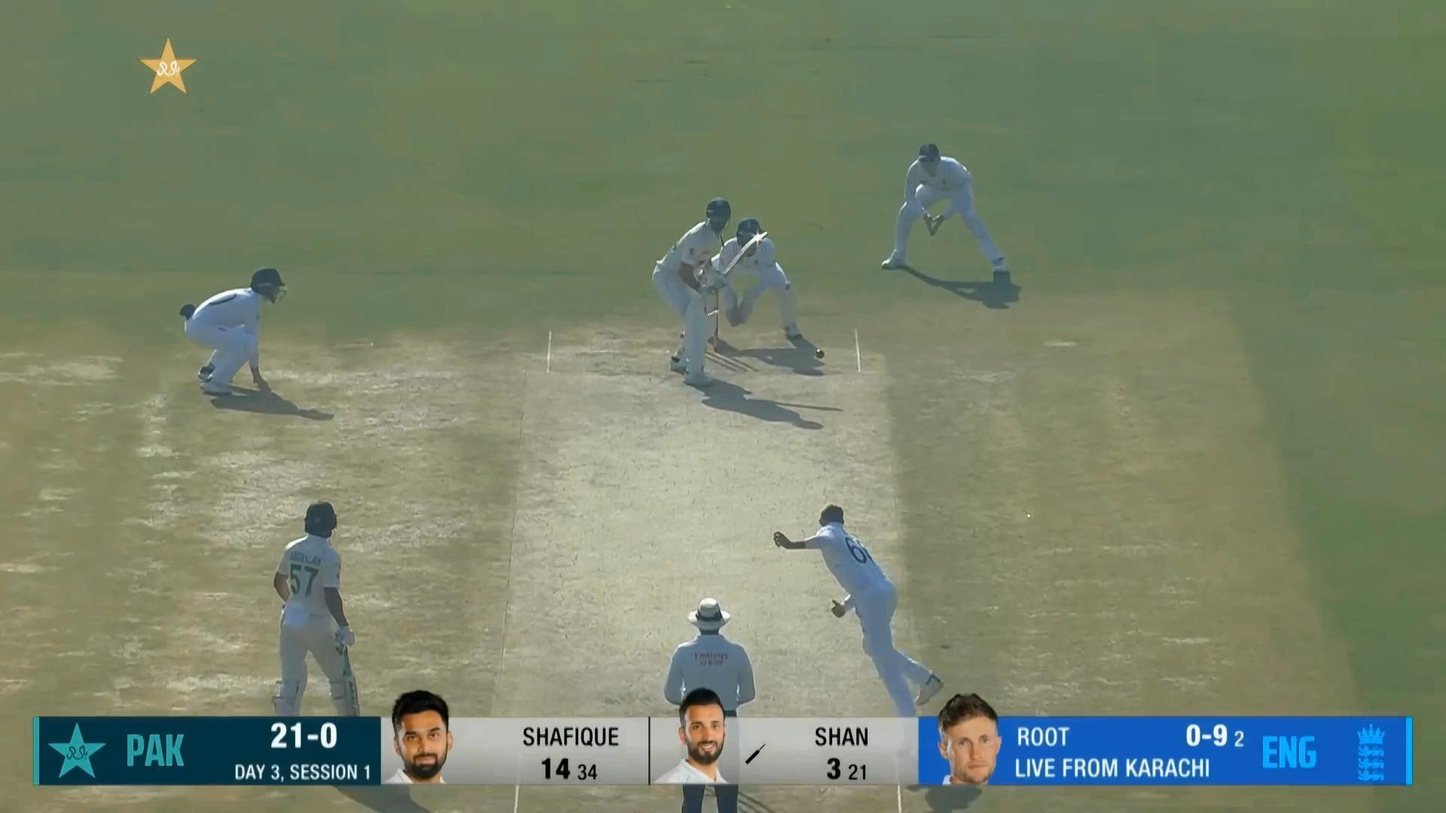BM 1: (651, 198, 767, 387)
BO: (771, 503, 945, 748)
